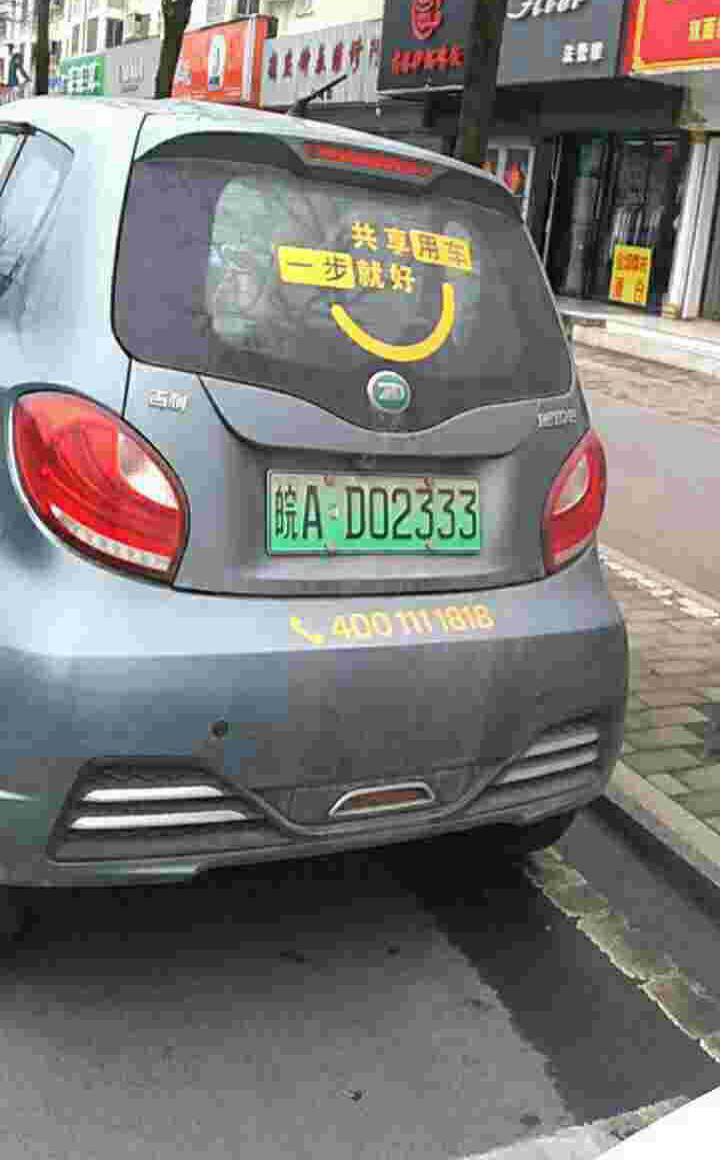car: (259, 464, 488, 561)
